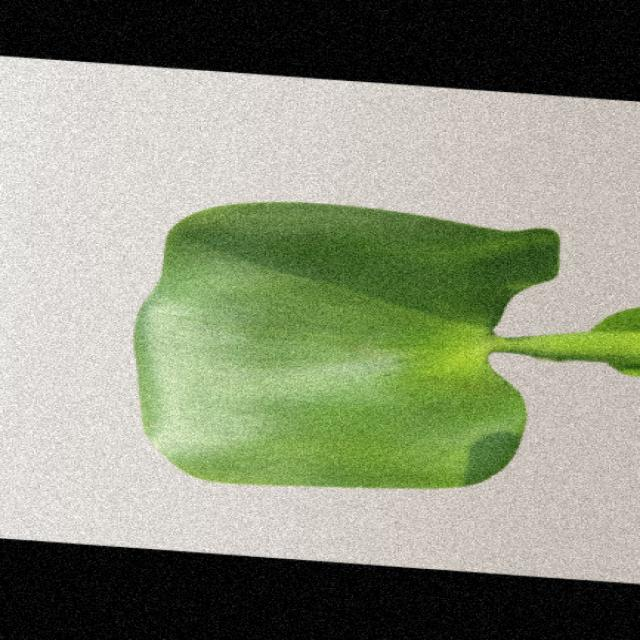daun sehat: (135, 202, 638, 487)
